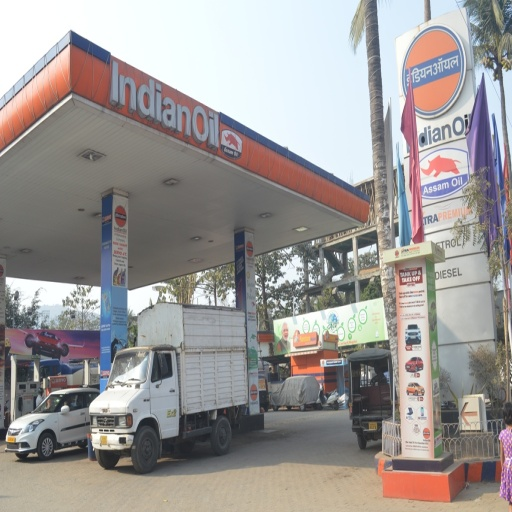roof: (1, 31, 372, 297)
